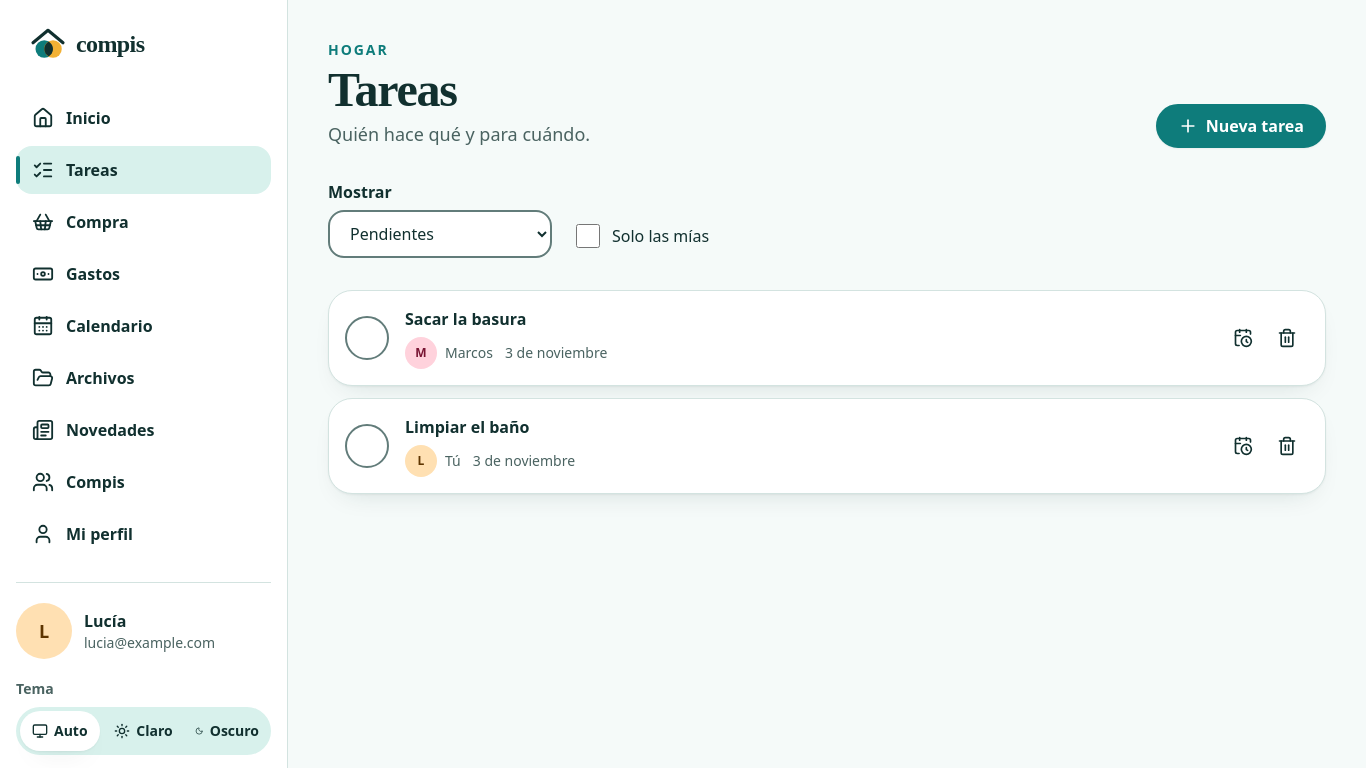
TasksPage › marks a task as done
The width and height of the screenshot is (1366, 768).
Click the button named "Marcar «Sacar la basura» como hecha". click: [367, 338]
box: [345, 316, 389, 360]
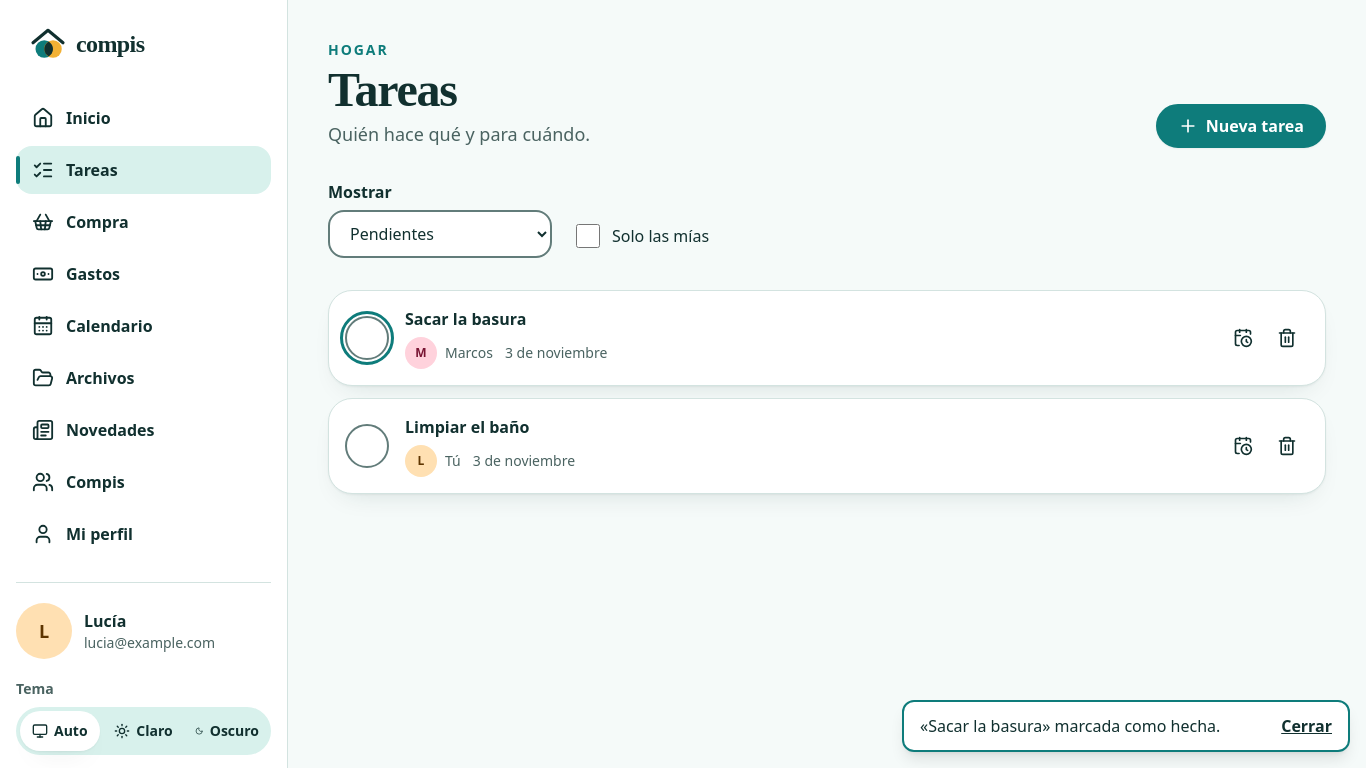
Expected: the text "«Sacar la basura» marcada como hecha." is shown, [920, 714, 1269, 738]
